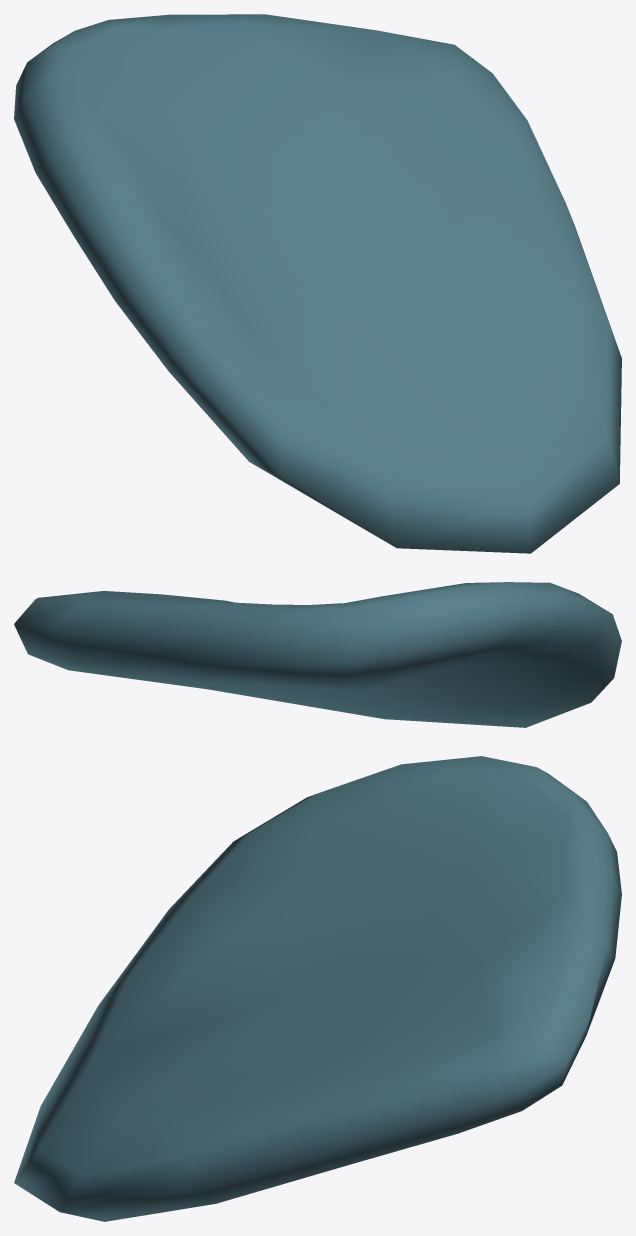
The model's file is Extensor_digitorum-distal_phalanx-2d_finger.r_Generated_Mesh_Fr.glb.
3 renders of one model, top to bottom at view 1: azimuth 30°, elevation 25°; view 2: azimuth 150°, elevation 25°; view 3: azimuth 270°, elevation 25°, orthographic. The views are drawn at different scales.
Visible parts, largest first — view 1: Extensor_digitorum-distal_phalanx-2d_finger.r_Generated_Mesh; view 2: Extensor_digitorum-distal_phalanx-2d_finger.r_Generated_Mesh; view 3: Extensor_digitorum-distal_phalanx-2d_finger.r_Generated_Mesh.
Part boxes in pixels (left/top/right/bottom): Extensor_digitorum-distal_phalanx-2d_finger.r_Generated_Mesh: left=14, top=14, right=621, bottom=553; Extensor_digitorum-distal_phalanx-2d_finger.r_Generated_Mesh: left=14, top=582, right=621, bottom=727; Extensor_digitorum-distal_phalanx-2d_finger.r_Generated_Mesh: left=14, top=756, right=621, bottom=1221.
Size of the model in its own units: 0.00325 by 0.00216 by 0.00356.
